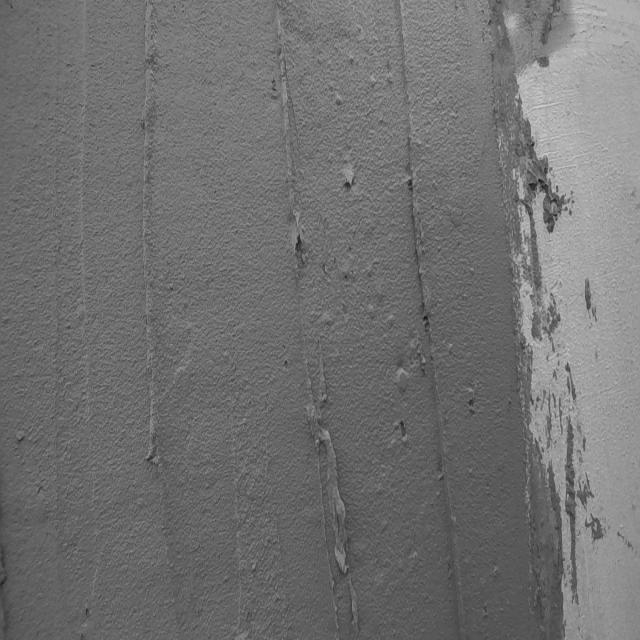trowels marks: (398, 9, 468, 640), (300, 352, 354, 640), (139, 6, 168, 491), (276, 11, 309, 288)
